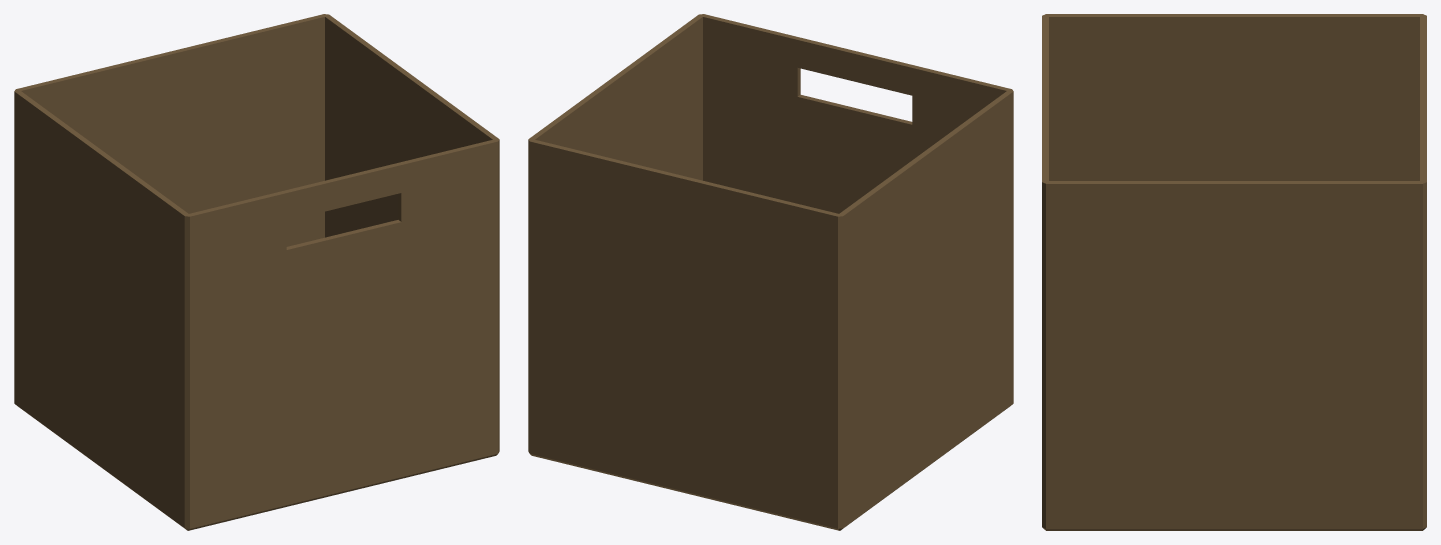
3 renders of one model, left to right at view 1: azimuth 30°, elevation 25°; view 2: azimuth 150°, elevation 25°; view 3: azimuth 270°, elevation 25°, orthographic. The views are drawn at different scales.
Parts seen in each view (by area): view 1: box; view 2: box; view 3: box.
Boxes of the visible parts, x1=… form: box: x1=14, y1=14, x2=499, y2=530; box: x1=528, y1=14, x2=1013, y2=530; box: x1=1042, y1=14, x2=1426, y2=530.
Size of the model in its own units: 29.24 by 28 by 28.
